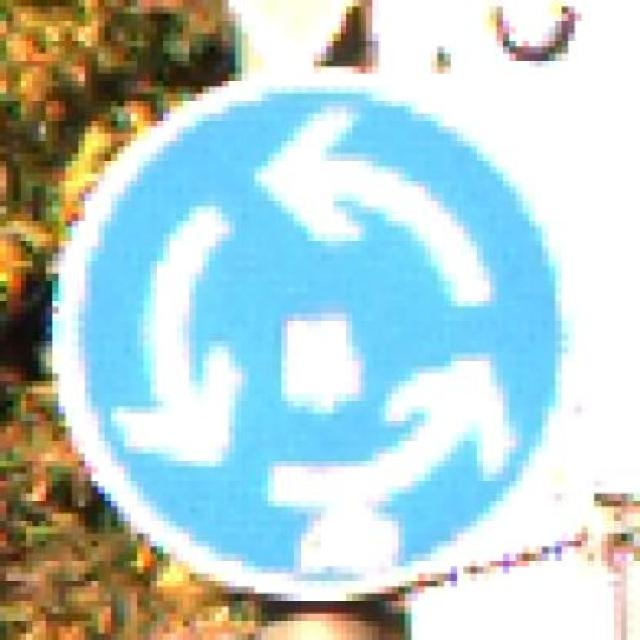Round-About: (26, 60, 588, 614)
